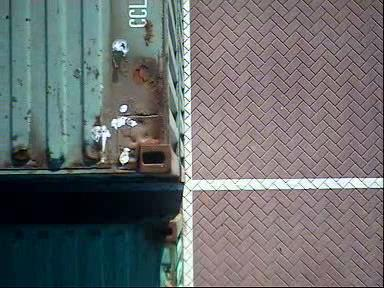groundmarker_2: (186, 23, 239, 101)
